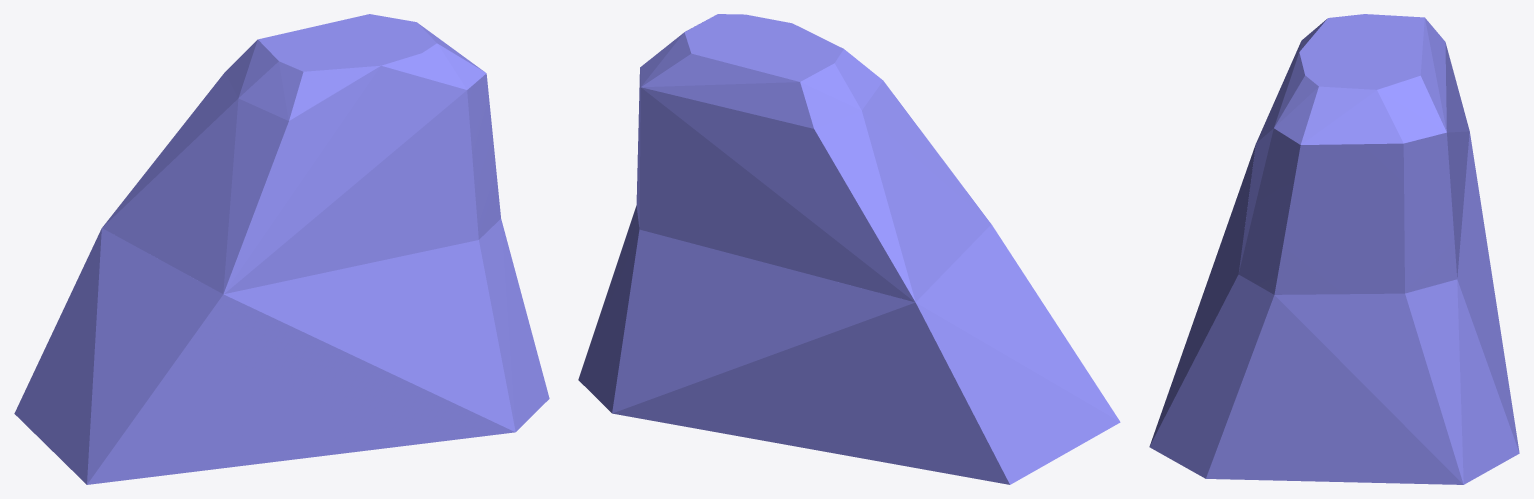
Rendered from Cliff_Sediment_01_Slope_Collider_01.FBX.
The picture shows the model from 3 angles, left to right: view 1: azimuth 30°, elevation 25°; view 2: azimuth 150°, elevation 25°; view 3: azimuth 270°, elevation 25°; orthographic projection. The views are drawn at different scales.
Visible parts, largest first — view 1: COLLIDER1, COLLIDER2; view 2: COLLIDER1, COLLIDER2; view 3: COLLIDER1, COLLIDER2.
Part boxes in pixels (<box>): COLLIDER1: <box>14,219,549,484</box>; COLLIDER2: <box>102,14,500,294</box>; COLLIDER1: <box>578,205,1120,484</box>; COLLIDER2: <box>636,14,991,302</box>; COLLIDER1: <box>1149,131,1519,484</box>; COLLIDER2: <box>1238,14,1469,294</box>.
Bounding box in the file's own units: 347 × 246 × 229.
